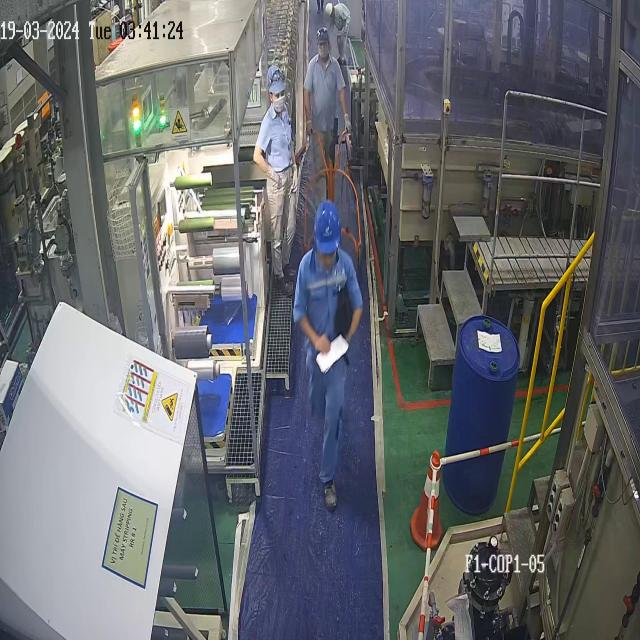Person: (292, 200, 363, 511), (303, 26, 352, 249), (252, 65, 298, 296)
